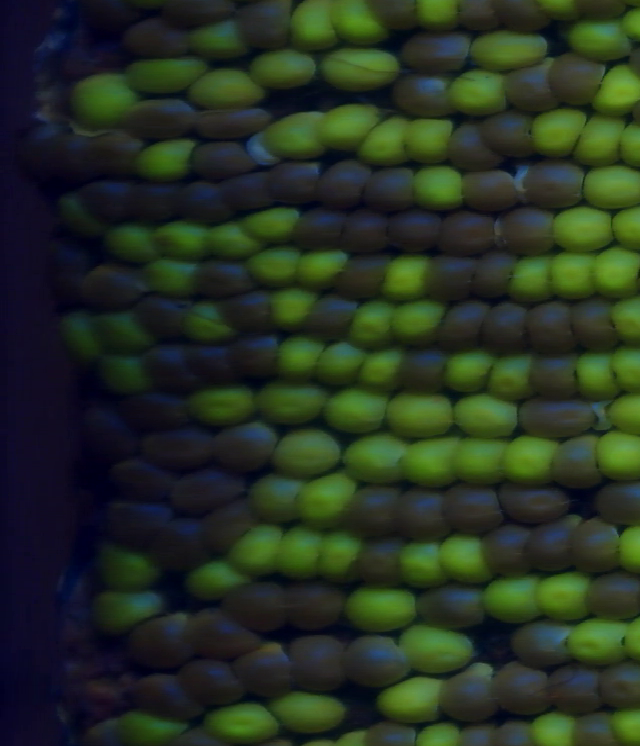fluorescent: (398, 617, 475, 674), (293, 467, 364, 525), (447, 393, 528, 442), (276, 1, 352, 53), (63, 75, 143, 124), (373, 677, 452, 726), (198, 701, 283, 745), (116, 54, 208, 94), (383, 390, 458, 439), (319, 48, 404, 91), (532, 573, 599, 627), (341, 584, 421, 629), (526, 102, 585, 163), (560, 19, 640, 63), (392, 435, 461, 486), (574, 161, 640, 214), (465, 29, 554, 68), (82, 588, 162, 631), (340, 434, 410, 483), (561, 614, 628, 665), (315, 98, 383, 148), (117, 706, 202, 746), (391, 293, 450, 350), (498, 432, 560, 486), (407, 161, 470, 214), (270, 427, 341, 474), (480, 572, 544, 624), (396, 539, 455, 595), (261, 110, 331, 157), (177, 558, 257, 598), (312, 529, 365, 589), (133, 134, 202, 180), (188, 69, 276, 105), (571, 110, 627, 166), (354, 115, 413, 168), (270, 690, 348, 730), (450, 437, 511, 488), (322, 387, 392, 431), (333, 1, 393, 52), (548, 206, 614, 251), (96, 543, 160, 589), (259, 384, 330, 425), (589, 426, 640, 483), (273, 523, 325, 578), (229, 522, 284, 574), (485, 352, 541, 403), (396, 117, 458, 163), (190, 387, 257, 429), (588, 64, 640, 118), (252, 474, 310, 522), (245, 50, 329, 83), (60, 193, 114, 244), (586, 246, 640, 297), (449, 71, 510, 116), (149, 220, 221, 258), (95, 222, 162, 262), (438, 348, 496, 392), (436, 532, 486, 583), (383, 250, 432, 302), (294, 245, 353, 288), (203, 223, 271, 260), (576, 348, 625, 399), (145, 252, 199, 298), (59, 314, 106, 366), (246, 245, 300, 290), (316, 340, 365, 388), (552, 251, 602, 298), (265, 288, 316, 334), (99, 316, 156, 356), (106, 352, 157, 396), (273, 334, 319, 382), (509, 254, 554, 303), (355, 345, 403, 389), (410, 1, 467, 37), (348, 303, 394, 347), (242, 206, 299, 237), (188, 300, 228, 344), (190, 26, 244, 58), (527, 712, 577, 746), (608, 295, 640, 347), (608, 343, 640, 395), (607, 201, 640, 250), (604, 390, 640, 432), (606, 705, 640, 746), (413, 721, 461, 746)
nonfluorescent: (216, 574, 300, 637), (336, 630, 414, 688), (139, 339, 210, 400), (185, 606, 266, 659), (228, 637, 300, 695), (439, 664, 512, 721), (128, 614, 201, 670), (126, 674, 211, 722), (416, 578, 493, 630), (102, 500, 182, 549), (283, 632, 347, 693), (145, 513, 212, 571), (178, 652, 248, 707), (490, 661, 561, 715), (42, 237, 94, 310), (286, 577, 350, 634), (517, 394, 598, 439), (392, 69, 459, 123), (544, 48, 605, 107), (489, 206, 557, 258), (510, 617, 579, 668), (567, 292, 626, 351), (400, 25, 471, 74), (514, 163, 588, 210), (438, 483, 505, 534), (105, 457, 179, 503), (567, 519, 623, 578), (328, 253, 393, 303), (552, 432, 608, 490), (78, 177, 141, 228), (454, 165, 525, 210), (127, 386, 203, 428), (79, 402, 138, 456), (541, 664, 606, 713), (174, 177, 234, 230), (348, 485, 408, 537), (123, 96, 195, 139), (171, 468, 246, 509), (396, 490, 455, 542), (77, 267, 153, 307), (241, 1, 303, 50), (28, 134, 94, 180), (207, 426, 279, 468), (582, 571, 640, 623), (481, 105, 539, 157), (401, 346, 460, 397), (184, 103, 269, 138), (314, 156, 368, 211), (525, 520, 579, 574), (419, 252, 474, 305), (438, 295, 489, 352), (502, 66, 561, 115), (302, 292, 362, 340), (138, 428, 220, 463), (226, 328, 283, 377), (198, 504, 258, 550), (340, 206, 393, 258), (355, 539, 410, 589), (182, 333, 237, 383), (290, 206, 346, 255), (386, 206, 446, 251), (193, 259, 263, 297), (436, 209, 495, 254), (491, 490, 574, 521), (138, 293, 191, 341), (194, 137, 257, 177), (218, 172, 276, 215), (129, 178, 182, 225), (83, 131, 137, 177), (528, 351, 584, 395), (484, 524, 534, 573), (449, 119, 500, 166), (488, 298, 526, 361), (365, 167, 421, 209), (527, 298, 573, 349), (472, 251, 517, 303), (266, 159, 320, 202), (123, 23, 191, 57), (219, 292, 277, 330), (451, 1, 506, 41), (591, 481, 640, 524), (598, 659, 640, 709), (155, 1, 245, 24), (363, 1, 420, 37), (495, 1, 553, 29), (572, 714, 620, 746), (365, 720, 417, 746), (495, 721, 543, 746)
